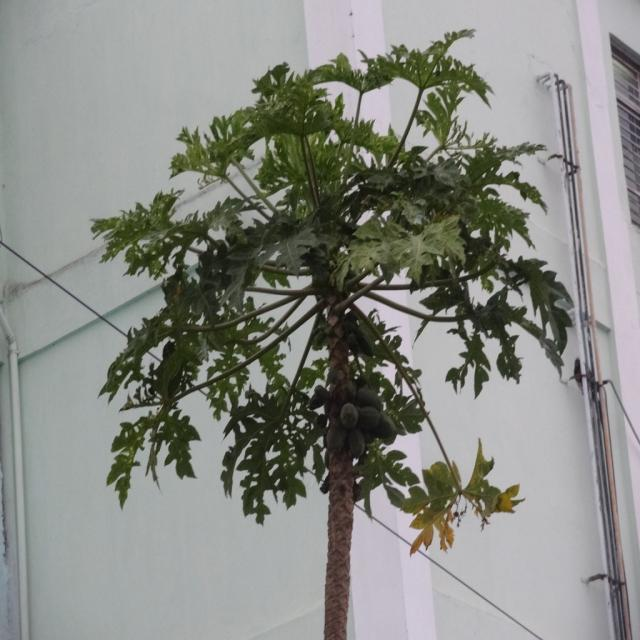Papaya-Tree: (86, 27, 591, 640)
